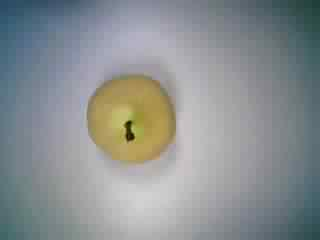pear: (73, 65, 190, 176)
